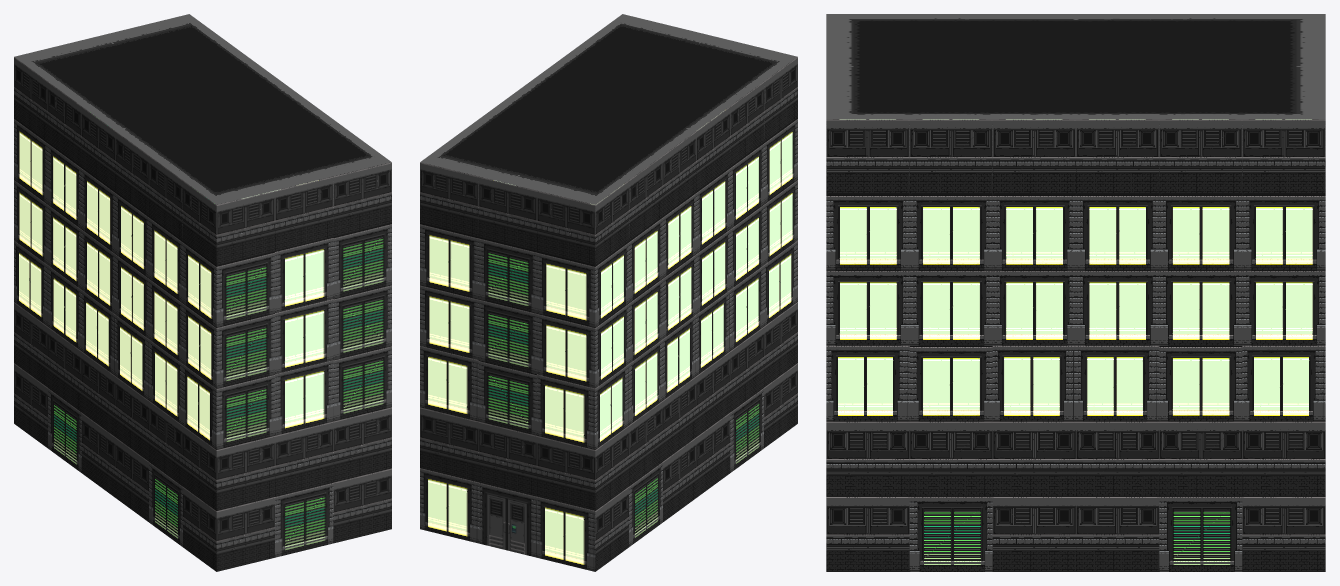
The model's file is 4_story_long.FBX.
3 views of the same model, side by side, from view 1: azimuth 30°, elevation 25°; view 2: azimuth 150°, elevation 25°; view 3: azimuth 270°, elevation 25° (orthographic). The views are drawn at different scales.
Visible parts, largest first — view 1: 4story_top002, 4story_btm002, roof003, 4story_top001, 4story_btm001; view 2: 4story_top001, 4story_btm001, roof003, 4story_top002, 4story_btm002; view 3: 4story_top001, 4story_btm001, 4story_top002, 4story_btm002, roof003.
Part boxes in pixels (x1,y1,x2,y2): 4story_top002: (115, 131, 391, 388); 4story_btm002: (115, 315, 391, 571); roof003: (14, 14, 391, 204); 4story_top001: (14, 57, 115, 313); 4story_btm001: (14, 240, 115, 497); 4story_top001: (420, 131, 696, 388); 4story_btm001: (420, 315, 696, 571); roof003: (420, 14, 797, 204); 4story_top002: (696, 57, 797, 313); 4story_btm002: (696, 240, 797, 497); 4story_top001: (1076, 119, 1325, 345); 4story_btm001: (1076, 345, 1325, 571); 4story_top002: (826, 119, 1075, 345); 4story_btm002: (826, 345, 1075, 571); roof003: (826, 14, 1325, 119).
Bounding box in the file's own units: 147 × 295 × 295.
2 materials, 2 textured.
